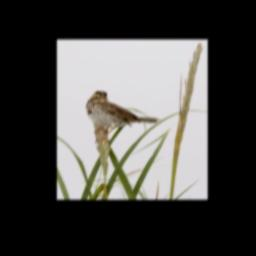Sparrow: (86, 90, 164, 143)
